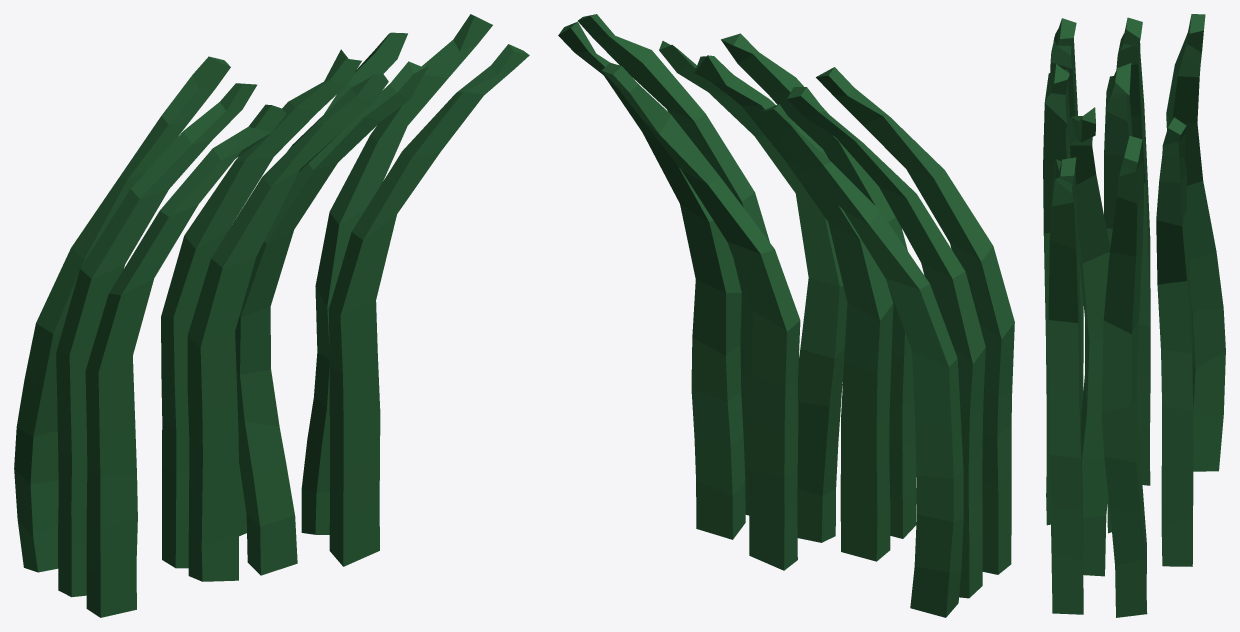
The model's file is grassModel.fbx.
The picture shows the model from 3 angles, left to right: view 1: azimuth 30°, elevation 25°; view 2: azimuth 150°, elevation 25°; view 3: azimuth 270°, elevation 25°; orthographic projection. The views are drawn at different scales.
Parts seen in each view (by area): view 1: Grass; view 2: Grass; view 3: Grass.
Part boxes in pixels (box(x1,y1,x2,y2)): Grass: box(14, 14, 529, 617); Grass: box(558, 14, 1014, 617); Grass: box(1043, 14, 1225, 617).
Size of the model in its own units: 203 by 212 by 62.82.
